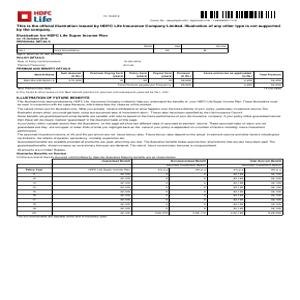image: (15, 8, 55, 24)
table: (17, 159, 283, 216), (17, 70, 284, 88), (17, 44, 228, 53)
text: (16, 88, 283, 159), (16, 24, 285, 32), (16, 55, 143, 70), (13, 33, 116, 43)
